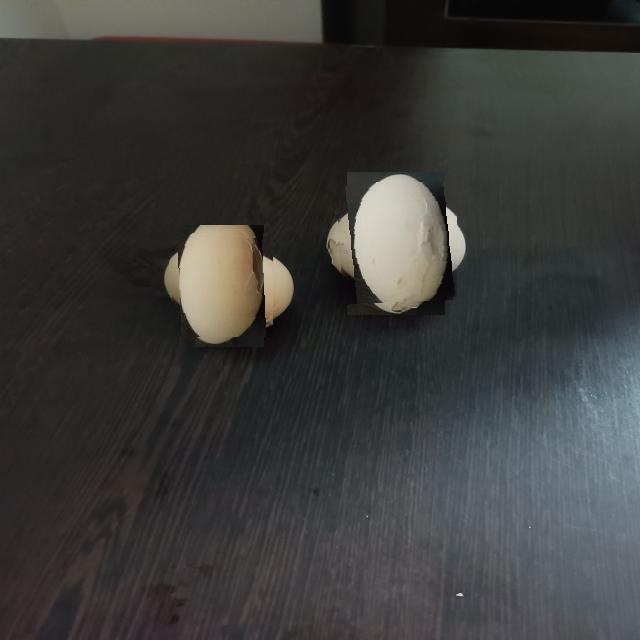biodegradable: (335, 182, 457, 304), (170, 234, 274, 338)
